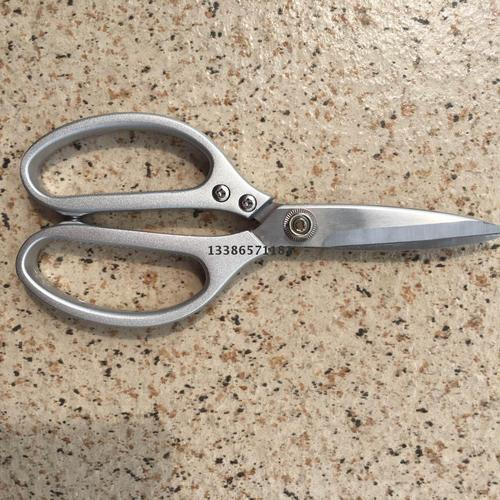scissor: (15, 111, 499, 332)
